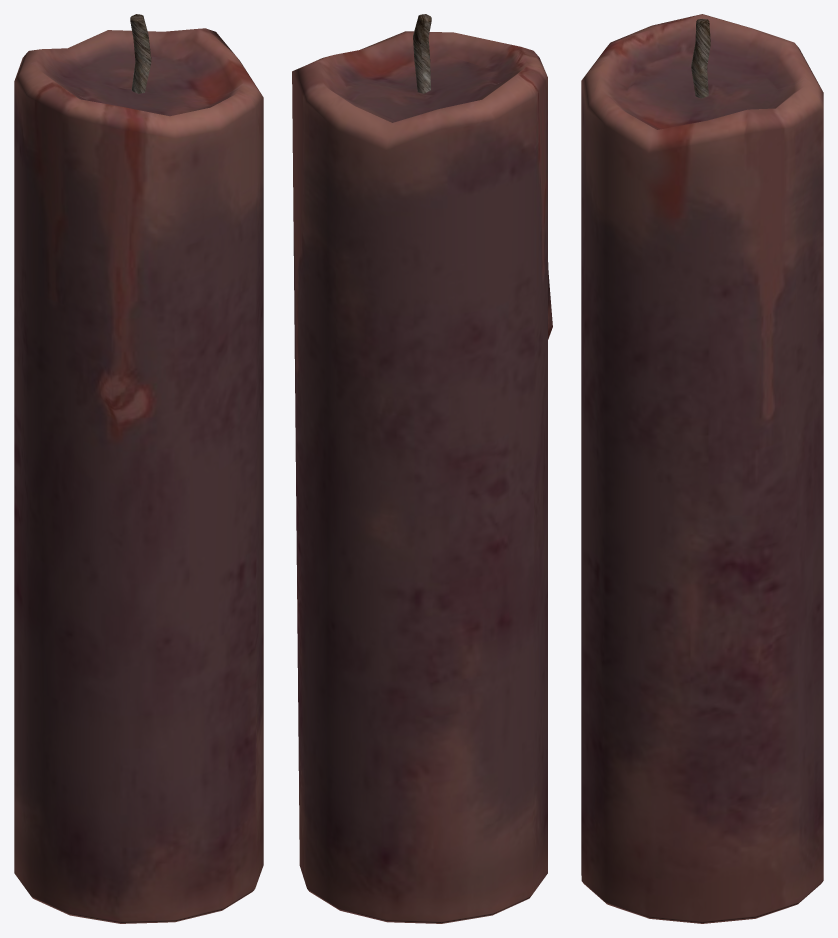
File: candle.glb
3 renders of one model, left to right at view 1: azimuth 30°, elevation 25°; view 2: azimuth 150°, elevation 25°; view 3: azimuth 270°, elevation 25°, orthographic.
Parts seen in each view (by area): view 1: defaultMaterial.001; view 2: defaultMaterial.001; view 3: defaultMaterial.001.
Part boxes in pixels (x1,y1,x2,y2): defaultMaterial.001: (14,14,263,923); defaultMaterial.001: (292,14,552,923); defaultMaterial.001: (581,14,823,923).
Size of the model in its own units: 0.339 by 1.26 by 0.324.
Materials: 1 (1 with a texture image).
